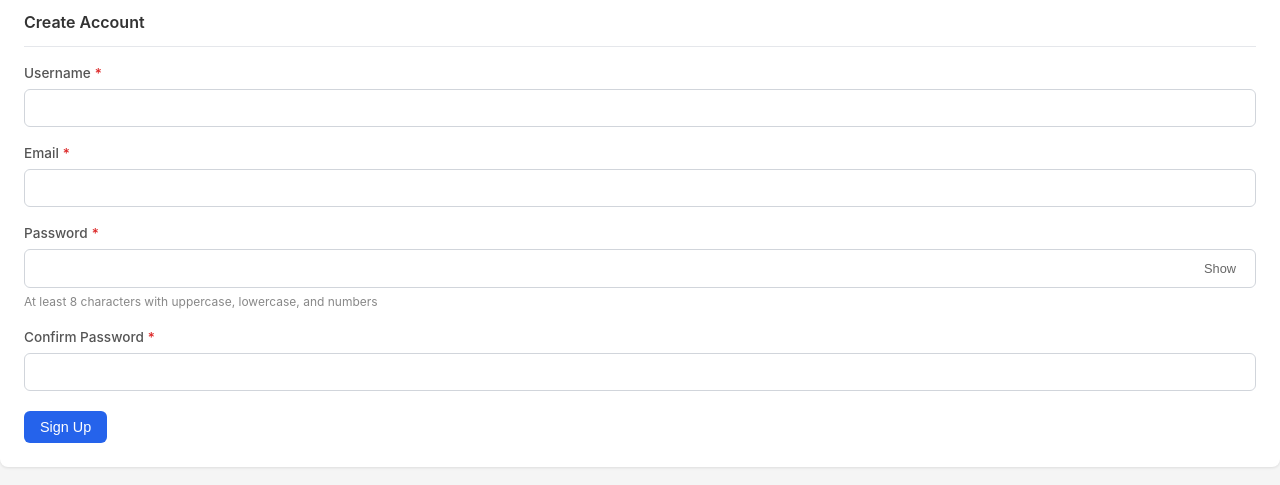
Test case: SignUpForm › disables button while submitting
Step 1. Type "testuser" into the field labelled "Username*" → [640, 108], box [24,89,1256,127]
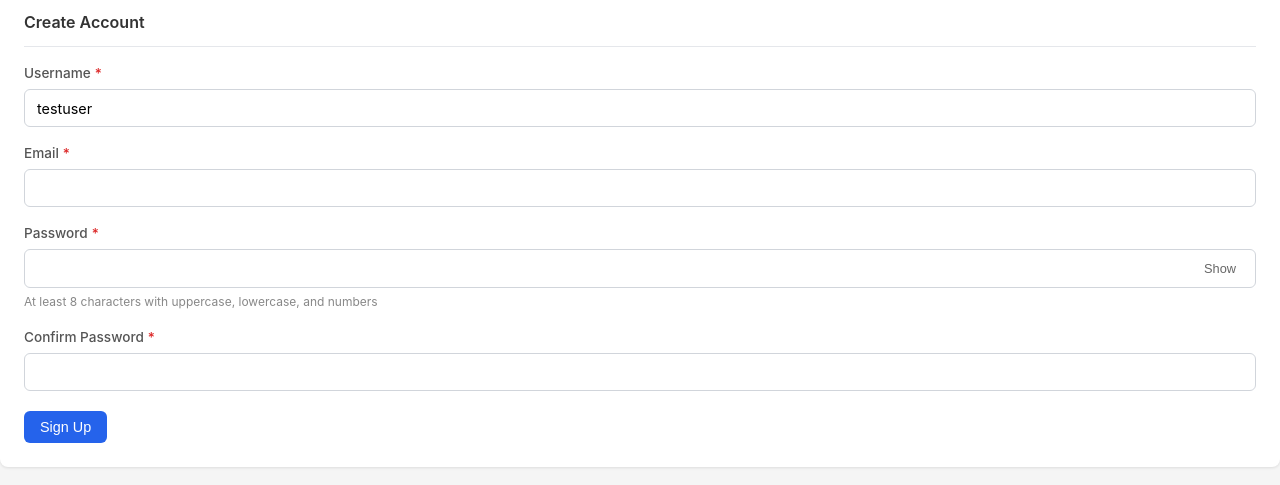
Step 2. Type "test@example.com" into the field labelled "Email*" → [640, 188], box [24,169,1256,207]
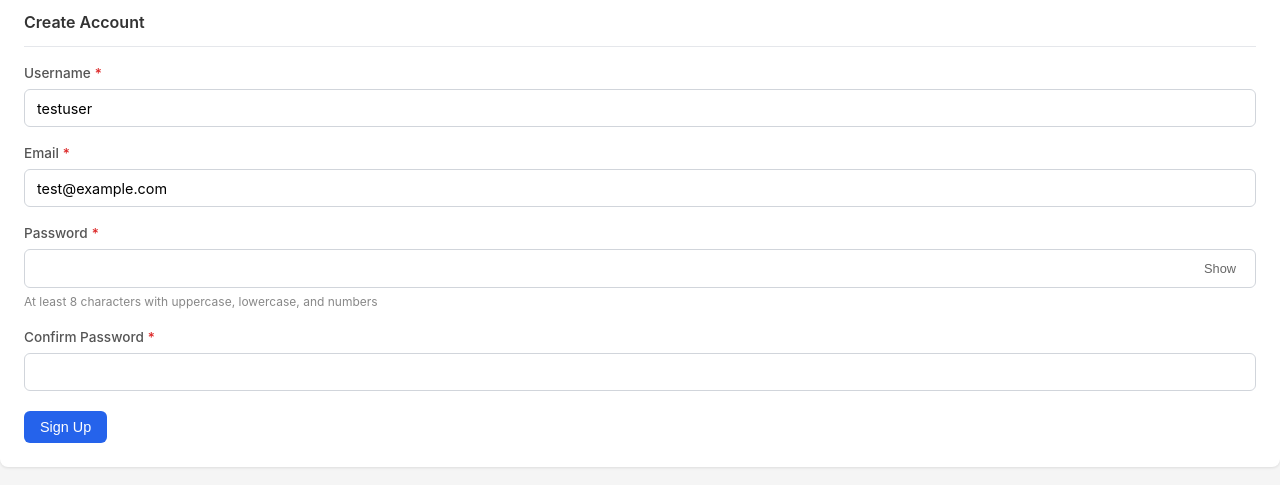
Step 3. Type "Password123" into the password field labelled "Password*" → [640, 268], box [24,249,1256,288]
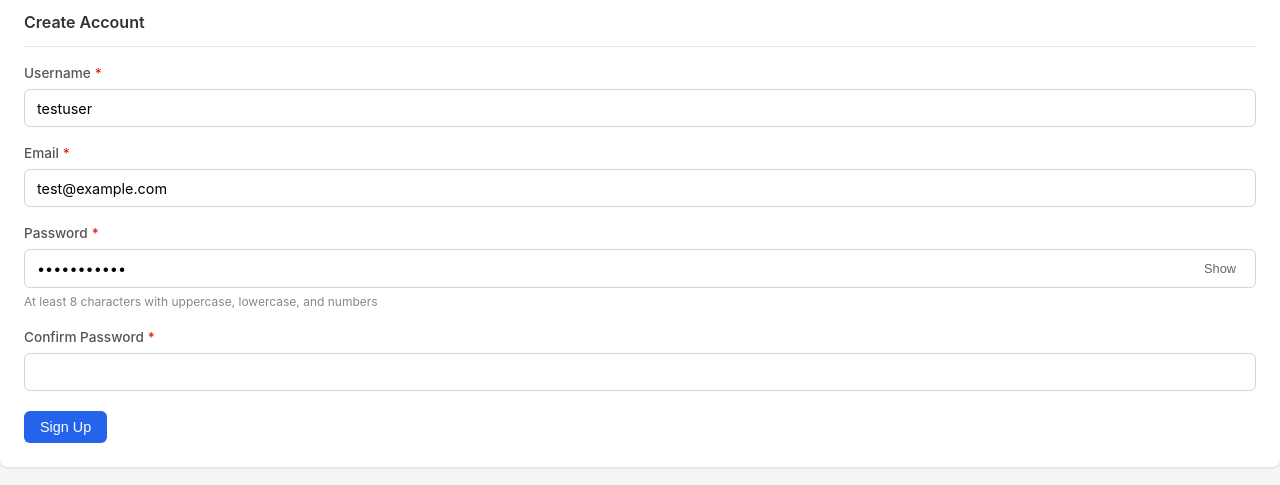
Step 4. Type "Password123" into the password field with id "confirmPassword" → [640, 372], box [24,353,1256,391]
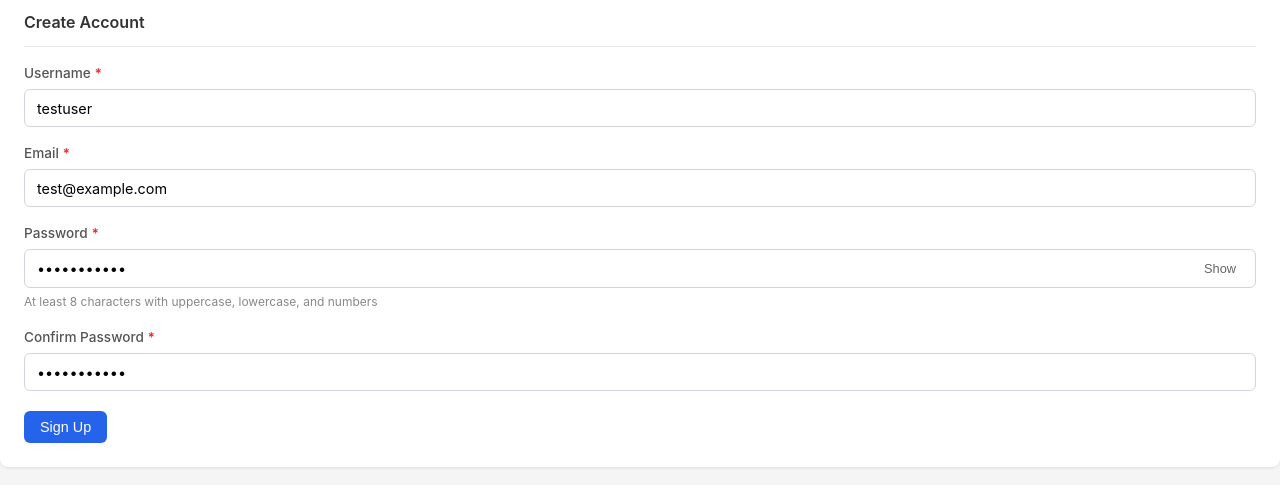
Step 5. Click the button "Sign Up" → [66, 427], box [24,411,107,443]
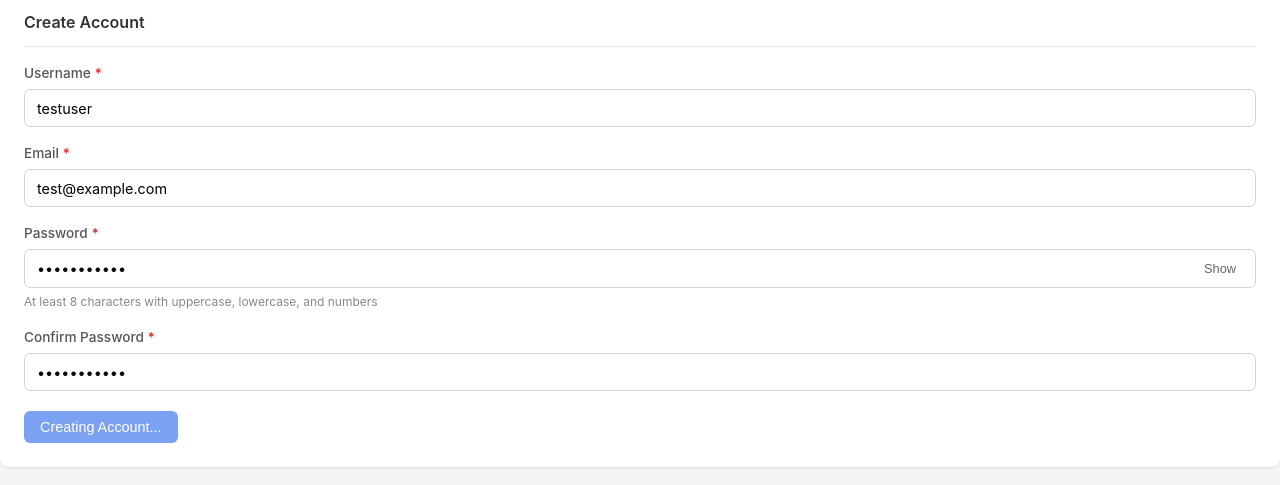
Expected: the button "Creating Account..." is disabled, [24,411,178,443]
